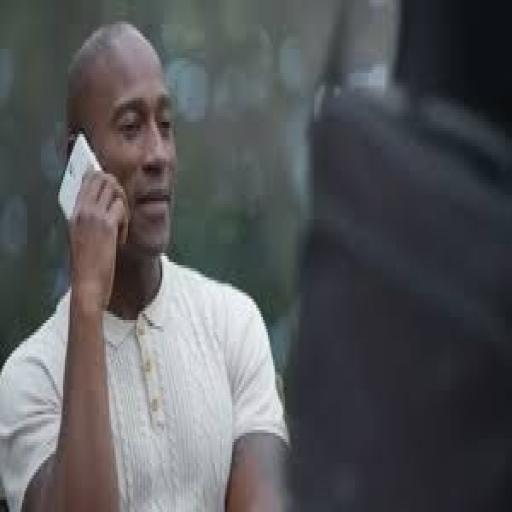calling: (0, 18, 294, 509)
